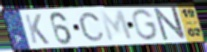6: (49, 10, 73, 46)
C: (78, 12, 106, 43)
G: (131, 8, 160, 41)
K: (22, 13, 51, 45)
M: (98, 8, 135, 43)
N: (153, 5, 188, 42)
